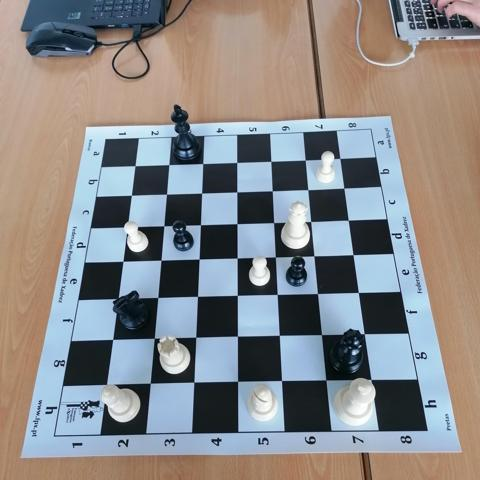xcorner: (161, 156, 177, 172), (127, 157, 143, 173), (265, 182, 281, 198), (229, 183, 245, 199), (342, 212, 358, 228), (304, 213, 320, 229), (229, 215, 245, 231), (347, 247, 363, 263), (268, 249, 284, 265), (229, 250, 245, 266), (270, 287, 286, 303), (229, 288, 245, 304), (189, 289, 205, 305), (315, 328, 331, 344), (272, 329, 288, 345), (187, 330, 203, 346), (319, 374, 335, 390), (299, 151, 314, 167), (264, 152, 279, 168), (229, 154, 245, 169), (195, 155, 211, 170), (301, 181, 317, 196), (194, 184, 209, 200), (158, 186, 174, 201), (123, 187, 139, 202), (267, 214, 282, 230), (192, 217, 208, 232), (119, 219, 135, 234), (308, 248, 323, 264), (191, 251, 206, 267), (153, 252, 168, 268), (115, 253, 130, 269), (311, 287, 327, 302), (149, 290, 165, 305), (358, 328, 374, 343), (229, 330, 245, 345), (146, 331, 161, 347), (104, 332, 120, 347), (274, 375, 290, 390), (230, 375, 245, 391), (185, 376, 201, 391), (142, 376, 157, 392), (98, 377, 114, 392), (334, 150, 349, 165), (338, 180, 353, 195), (156, 218, 171, 233), (353, 286, 368, 301), (110, 291, 125, 306), (365, 374, 380, 389)
